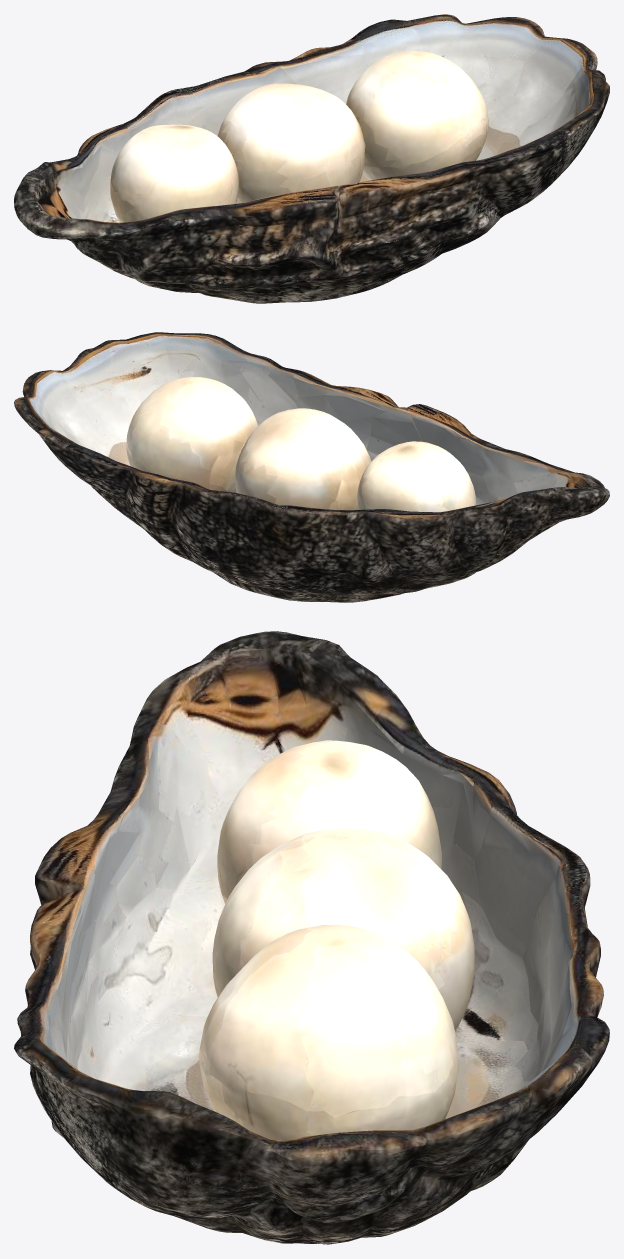
Rendered from min3-pearl-final.glb.
3 views of the same model, one above another, from view 1: azimuth 30°, elevation 25°; view 2: azimuth 150°, elevation 25°; view 3: azimuth 270°, elevation 25° (orthographic). The views are drawn at different scales.
Parts seen in each view (by area): view 1: Mesh_0; view 2: Mesh_0; view 3: Mesh_0.
Boxes of the visible parts, left/top/right/bottom form: Mesh_0: left=14, top=14, right=609, bottom=303; Mesh_0: left=14, top=332, right=609, bottom=602; Mesh_0: left=14, top=631, right=609, bottom=1244.
Size of the model in its own units: 0.2826 by 0.08 by 0.137.
Materials: 1 (1 with a texture image).
